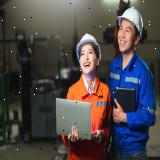Helmet: (76, 32, 102, 72), (117, 5, 143, 42)
